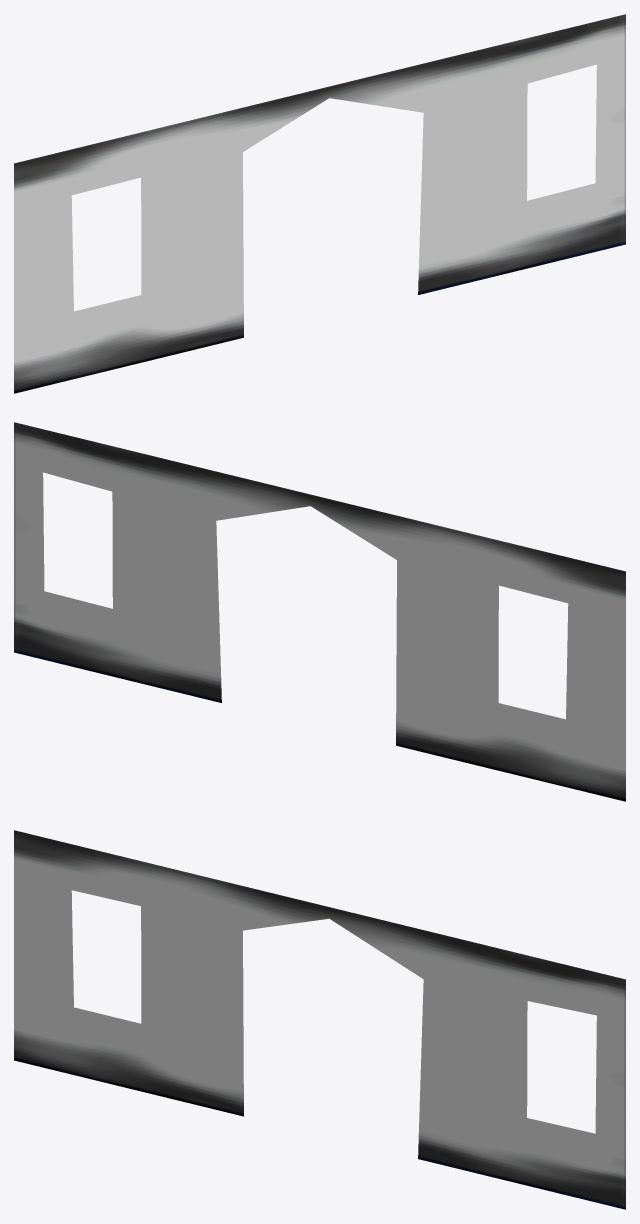
File: W_AI2r_fOf [Grau]_445.glb
3 renders of one model, top to bottom at view 1: azimuth 30°, elevation 25°; view 2: azimuth 150°, elevation 25°; view 3: azimuth 330°, elevation 25°, orthographic.
Visible parts, largest first — view 1: polySurfaceShape762; view 2: polySurfaceShape762; view 3: polySurfaceShape762.
Boxes of the visible parts, x1=… form: polySurfaceShape762: x1=14, y1=14, x2=625, y2=393; polySurfaceShape762: x1=14, y1=422, x2=625, y2=801; polySurfaceShape762: x1=14, y1=830, x2=625, y2=1209.
Bounding box in the file's own units: 0.9692 × 0.3486 × 1.34e-07.
Materials: 1 (1 with a texture image).
